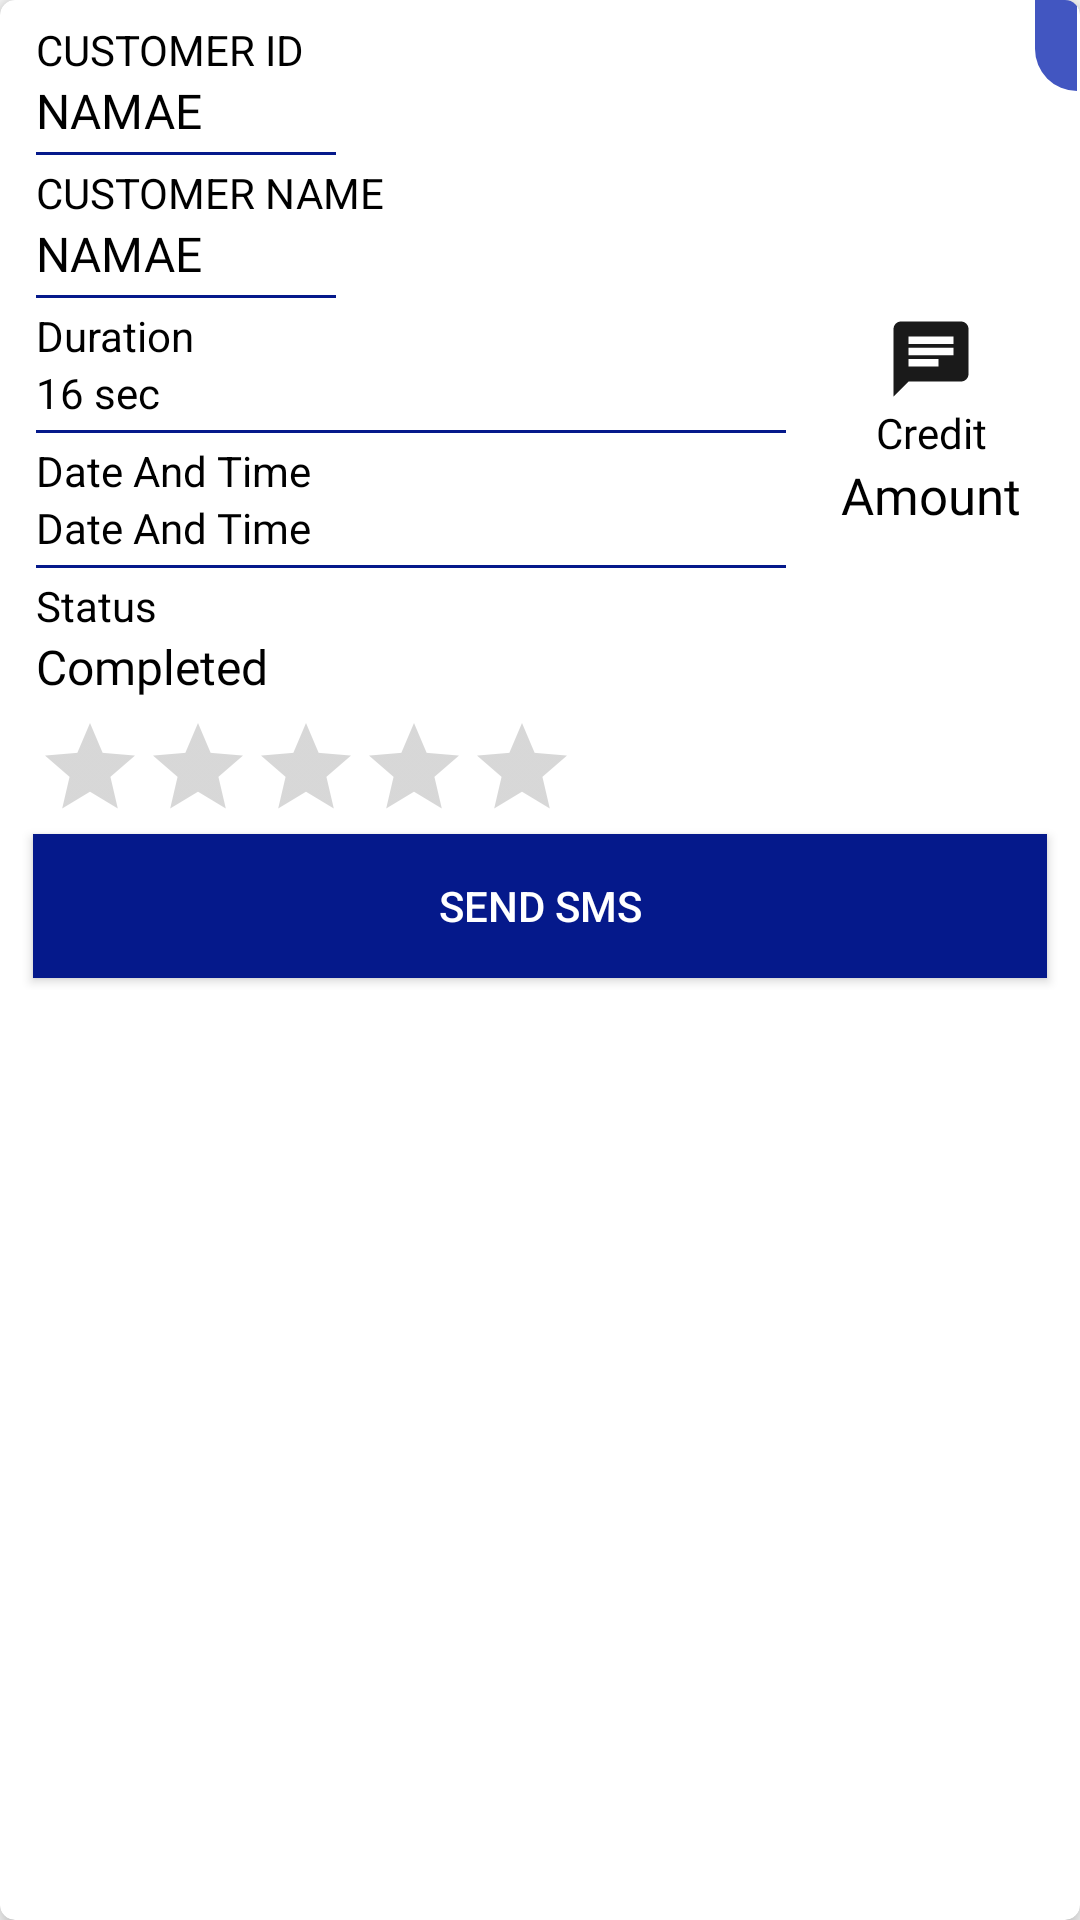

Icon bounding boxes for this 1080w x 1920h phone screenshot, format (x1, y1, x2, y2):
chat: (893, 321, 969, 397)
